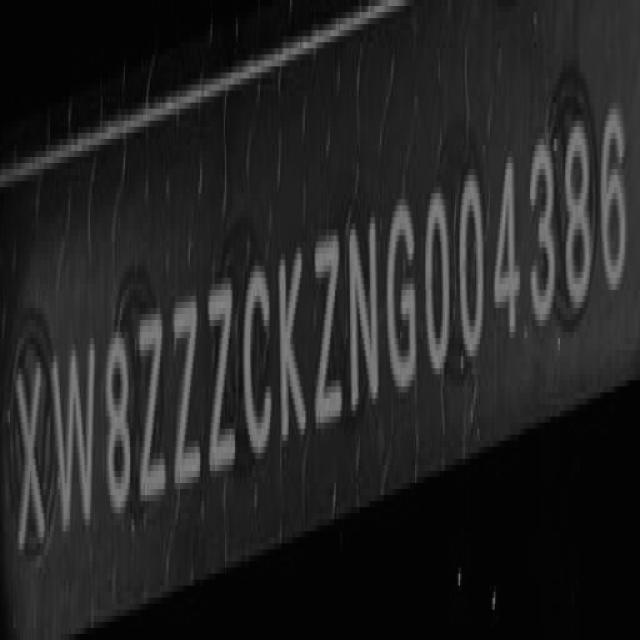0: (421, 177, 454, 386), (457, 164, 487, 370)
3: (527, 126, 560, 334)
4: (491, 146, 526, 353)
6: (598, 96, 633, 302)
8: (562, 107, 596, 319), (105, 325, 135, 526)
C: (242, 253, 276, 468)
G: (388, 188, 422, 404)
K: (277, 238, 308, 452)
N: (346, 199, 384, 423)
W: (49, 332, 100, 543)
X: (15, 340, 48, 568)
Z: (313, 220, 345, 441), (174, 284, 207, 498), (208, 276, 240, 483), (139, 301, 170, 512)
